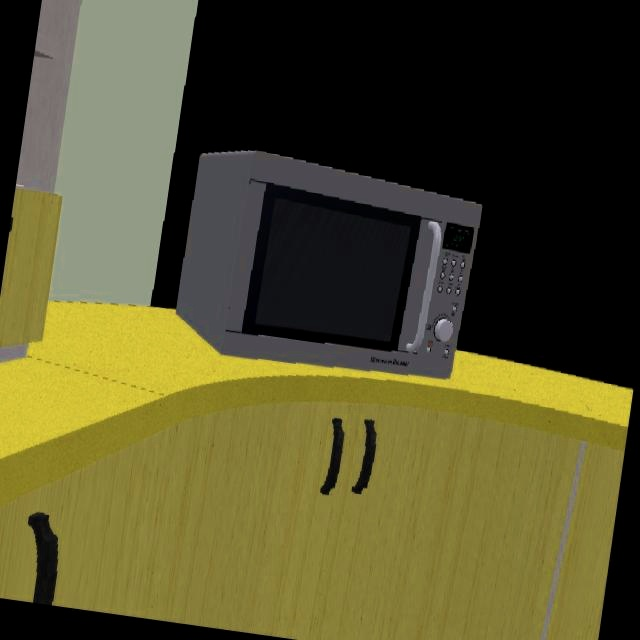countertop: (0, 303, 633, 505)
microwave: (178, 152, 481, 380)
